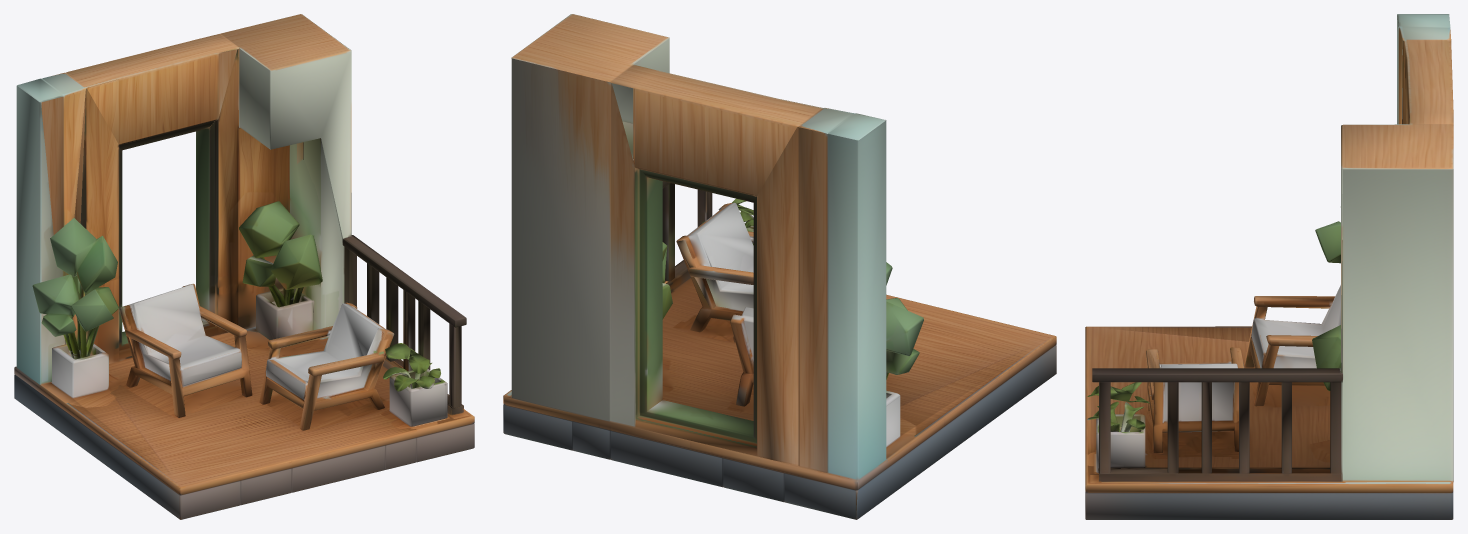
Rendered from balcony.glb.
3 renders of one model, left to right at view 1: azimuth 30°, elevation 25°; view 2: azimuth 150°, elevation 25°; view 3: azimuth 270°, elevation 25°, orthographic. The views are drawn at different scales.
Parts seen in each view (by area): view 1: material; view 2: material; view 3: material.
Part boxes in pixels (x1,y1,x2,y2): material: (14,14,474,519); material: (503,14,1056,519); material: (1085,14,1453,519).
Bounding box in the file's own units: 1.9 × 1.87 × 1.79.
1 material, 1 textured.
